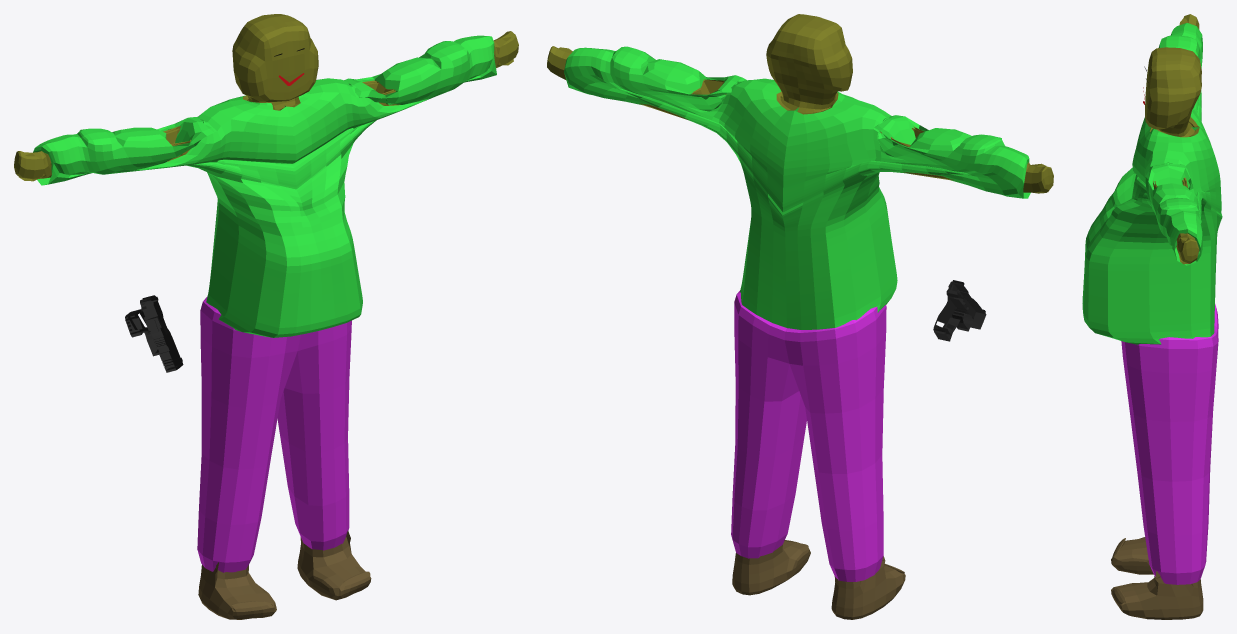
Rendered from enemy3_novověk.fbx.
3 renders of one model, left to right at view 1: azimuth 30°, elevation 25°; view 2: azimuth 150°, elevation 25°; view 3: azimuth 270°, elevation 25°, orthographic. The views are drawn at different scales.
Parts seen in each view (by area): view 1: Cube.002, Cube.003, Cube, Cube.001, Plane; view 2: Cube.002, Cube.003, Cube, Cube.001, Plane; view 3: Cube.002, Cube.003, Cube, Cube.001.
Part boxes in pixels (x1=…): Cube.002: x1=19, y1=35, x2=513, y2=337; Cube.003: x1=197, y1=296, x2=351, y2=572; Cube: x1=14, y1=14, x2=518, y2=604; Cube.001: x1=198, y1=531, x2=371, y2=619; Plane: x1=125, y1=295, x2=183, y2=372; Cube.002: x1=558, y1=46, x2=1048, y2=329; Cube.003: x1=731, y1=290, x2=886, y2=581; Cube: x1=547, y1=14, x2=1053, y2=193; Cube.001: x1=732, y1=540, x2=905, y2=619; Plane: x1=933, y1=280, x2=986, y2=341; Cube.002: x1=1082, y1=18, x2=1222, y2=344; Cube.003: x1=1121, y1=304, x2=1218, y2=584; Cube: x1=1145, y1=14, x2=1201, y2=263; Cube.001: x1=1111, y1=537, x2=1203, y2=619.
Bounding box in the file's own units: 308 × 336 × 79.7.
